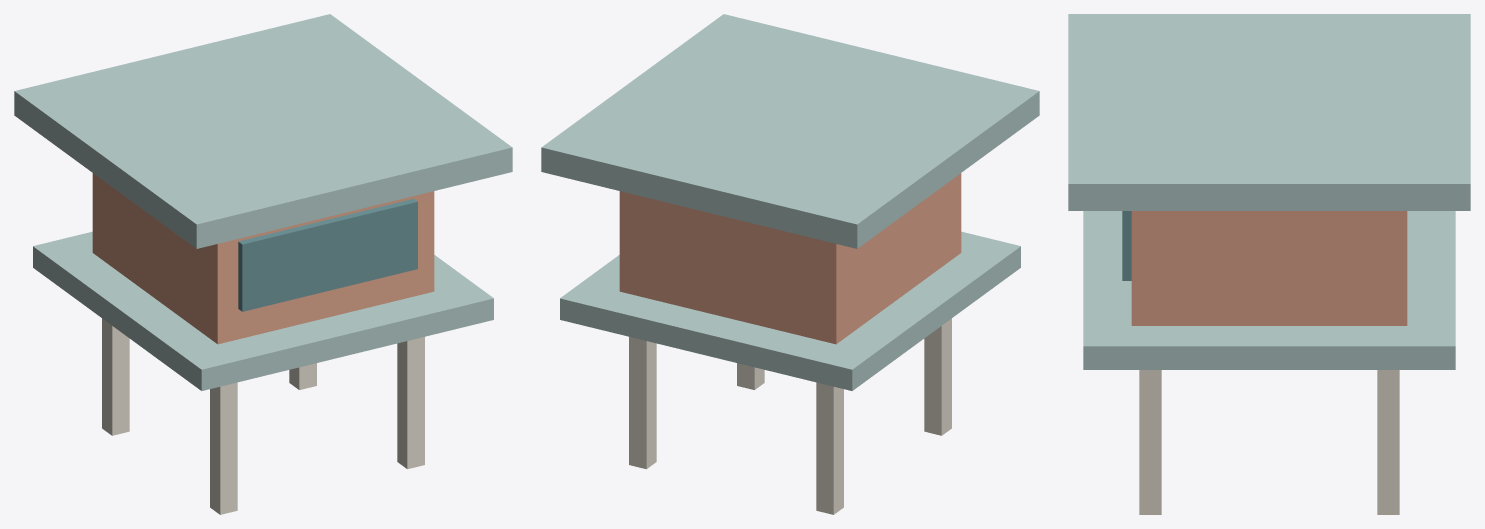
The model's file is lifeguard.glb.
3 views of the same model, side by side, from view 1: azimuth 30°, elevation 25°; view 2: azimuth 150°, elevation 25°; view 3: azimuth 270°, elevation 25° (orthographic). The views are drawn at different scales.
Parts seen in each view (by area): view 1: Interpretive Miami Beach lifeguard tower; view 2: Interpretive Miami Beach lifeguard tower; view 3: Interpretive Miami Beach lifeguard tower.
Part boxes in pixels (x1=…): Interpretive Miami Beach lifeguard tower: x1=14, y1=14, x2=512, y2=514; Interpretive Miami Beach lifeguard tower: x1=541, y1=14, x2=1039, y2=514; Interpretive Miami Beach lifeguard tower: x1=1068, y1=14, x2=1470, y2=514.
Size of the model in its own units: 5.4 by 5.35 by 5.4.
